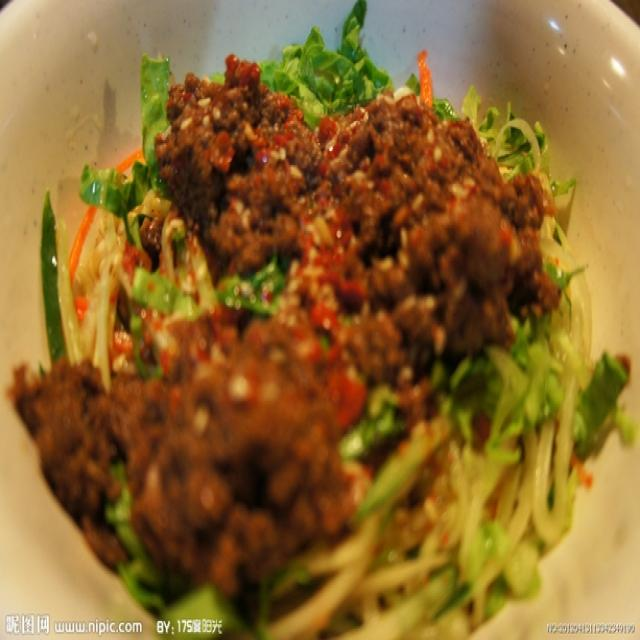面条主食: (23, 28, 616, 626)
